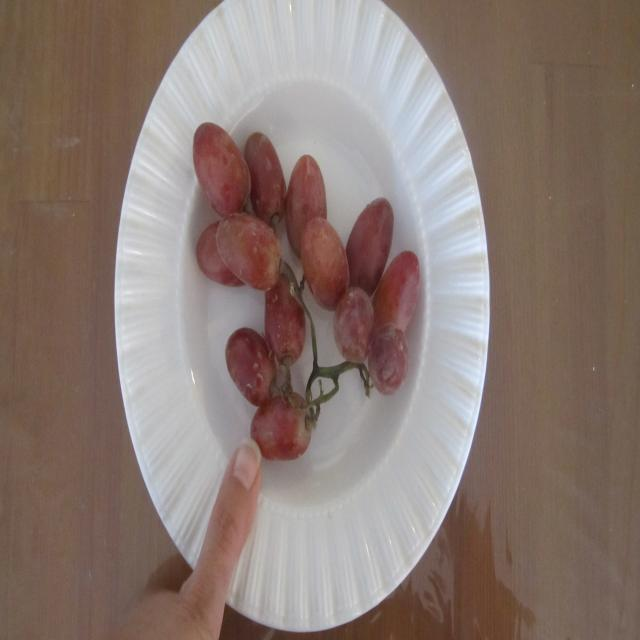grape: (181, 106, 437, 464)
